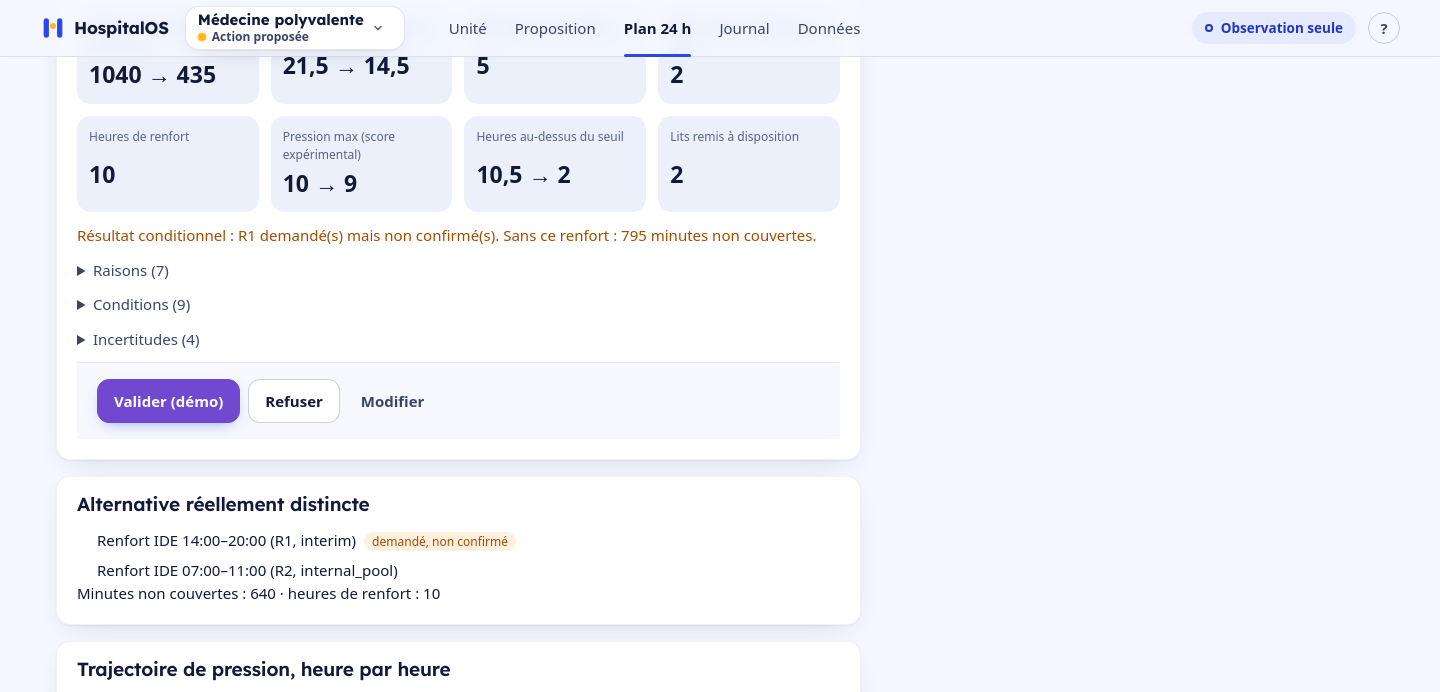
Test: plan à 24 h (moteur d'aide à la décision) › shows an idempotency conflict from the engine instead of a borrowed success
(page scrolled)
Click the button with test id "ds-approve".
click(169, 401)  # box [97,379,240,423]
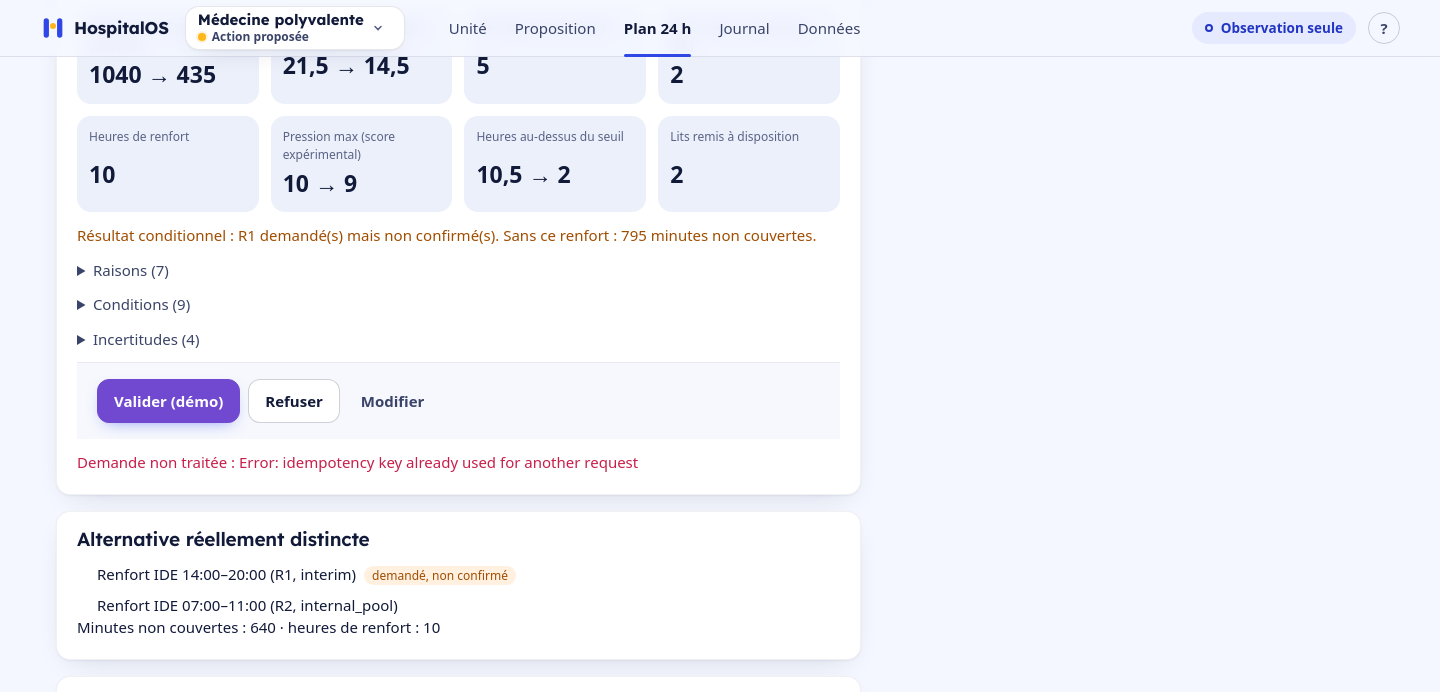
Result: the message with test id "ds-conflict" shows "idempotency key already used" at [239,452,638,472]
